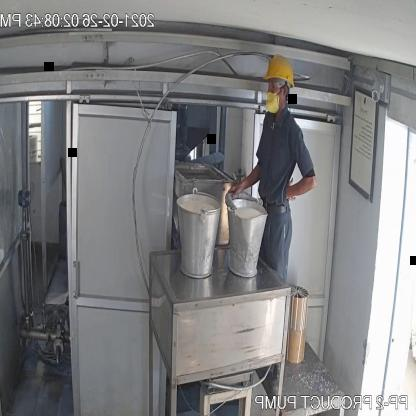helmet: (262, 51, 298, 90)
